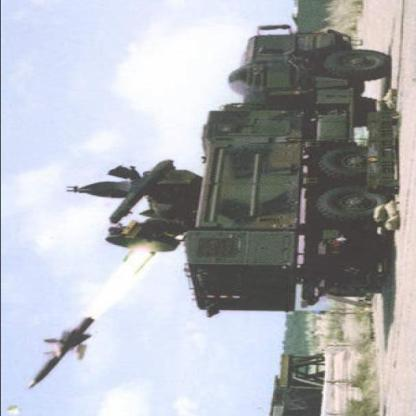MIL_TBM: (23, 313, 102, 389)
